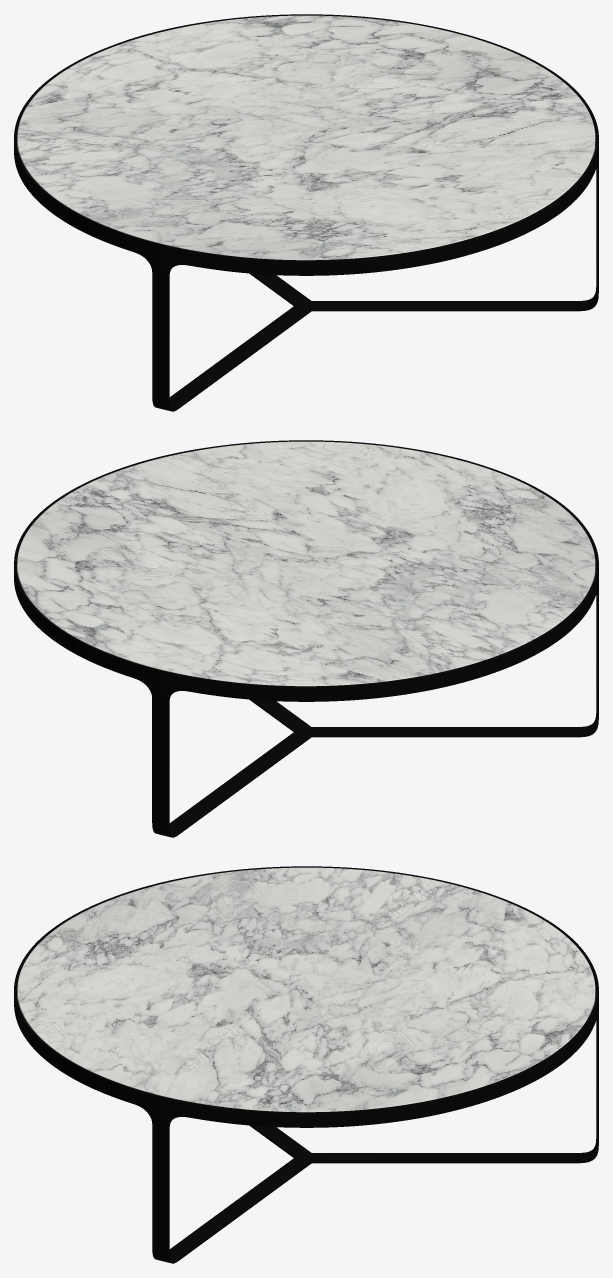
Rendered from Coffe_Table_Cage_tables.obj.
3 renders of one model, top to bottom at view 1: azimuth 30°, elevation 25°; view 2: azimuth 150°, elevation 25°; view 3: azimuth 270°, elevation 25°, orthographic.
Parts seen in each view (by area): view 1: Cage_tables_obj.002, Cage_tables_obj.001; view 2: Cage_tables_obj.002, Cage_tables_obj.001; view 3: Cage_tables_obj.002, Cage_tables_obj.001.
Boxes of the visible parts, bbox=[...] form: Cage_tables_obj.002: bbox=[17, 15, 595, 260]; Cage_tables_obj.001: bbox=[14, 14, 598, 411]; Cage_tables_obj.002: bbox=[17, 441, 595, 686]; Cage_tables_obj.001: bbox=[14, 440, 598, 837]; Cage_tables_obj.002: bbox=[17, 867, 595, 1112]; Cage_tables_obj.001: bbox=[14, 866, 598, 1263].
Size of the model in its own units: 1.43 by 0.457 by 1.43.
2 materials, 1 textured.
